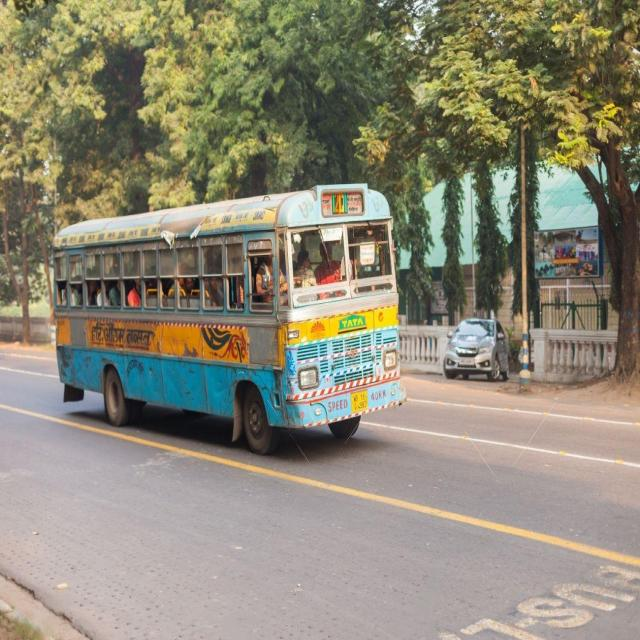bus: (51, 184, 404, 452)
car: (444, 319, 510, 381)
